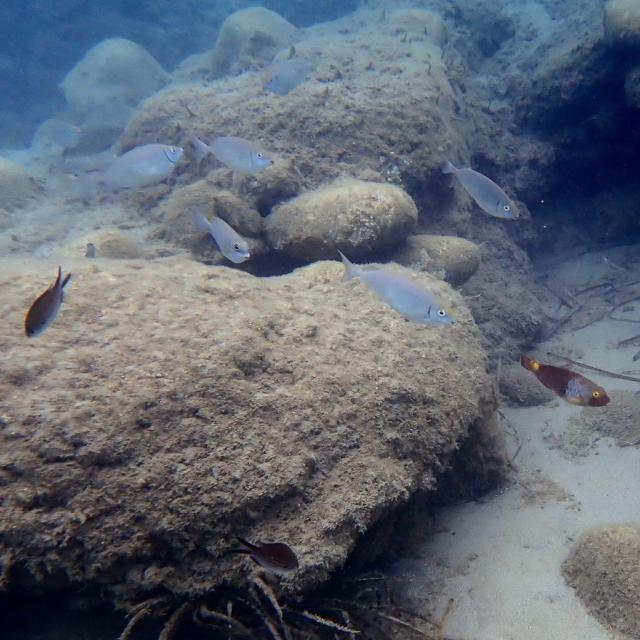Sokar Baligi: (328, 237, 459, 341), (425, 143, 539, 228), (64, 136, 188, 214), (257, 34, 329, 108)
